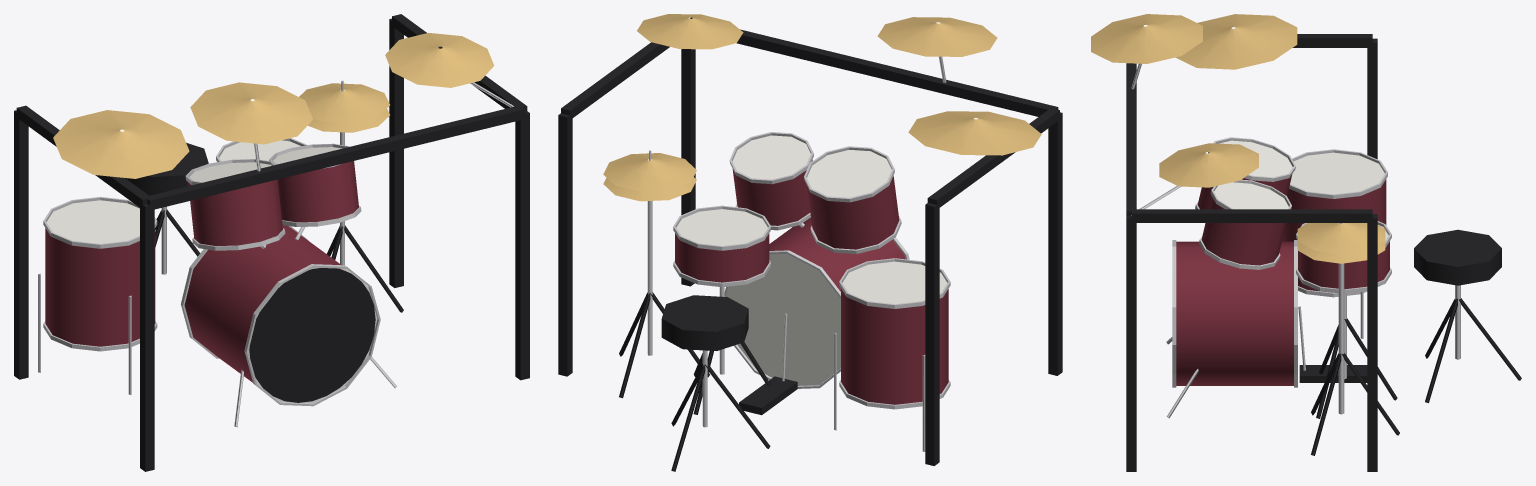
The model's file is drum-set-cage-low.glb.
3 renders of one model, left to right at view 1: azimuth 30°, elevation 25°; view 2: azimuth 150°, elevation 25°; view 3: azimuth 270°, elevation 25°, orthographic. The views are drawn at different scales.
Visible parts, largest first — view 1: shell, frame, cymbal, artwork, metal, head; view 2: frame, head, shell, cymbal, metal; view 3: shell, frame, cymbal, metal, head.
Boxes of the visible parts, x1=… form: shell: x1=45, y1=161, x2=358, y2=382; frame: x1=14, y1=14, x2=529, y2=471; cymbal: x1=53, y1=33, x2=494, y2=178; artwork: x1=249, y1=268, x2=375, y2=402; metal: x1=38, y1=80, x2=513, y2=427; head: x1=46, y1=140, x2=377, y2=402; frame: x1=558, y1=17, x2=1062, y2=471; head: x1=676, y1=135, x2=947, y2=385; shell: x1=675, y1=160, x2=948, y2=404; cymbal: x1=603, y1=14, x2=1041, y2=201; metal: x1=647, y1=56, x2=950, y2=451; shell: x1=1176, y1=174, x2=1389, y2=385; frame: x1=1126, y1=34, x2=1521, y2=471; cymbal: x1=1091, y1=14, x2=1385, y2=263; metal: x1=1131, y1=63, x2=1460, y2=418; head: x1=1214, y1=140, x2=1388, y2=240.
Bounding box in the file's own units: 1.76 × 1.37 × 1.66.
